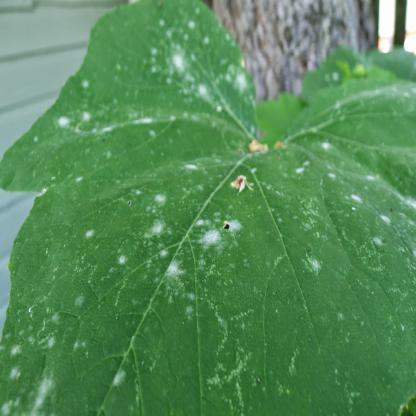Squash Powdery mildew leaf: (0, 8, 414, 416)
